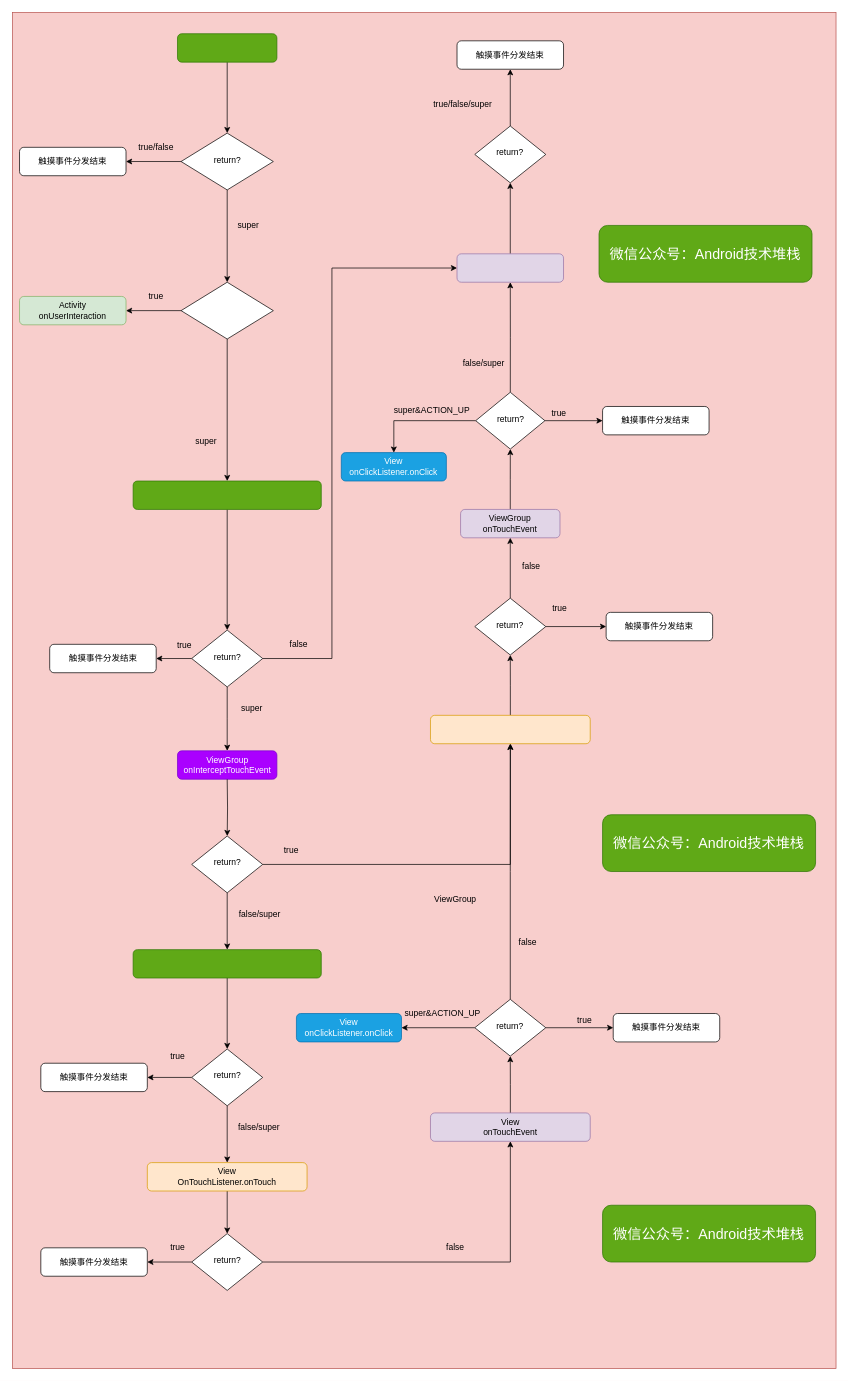
Some shapes in this 848 by 1381 pixel diagram are drawn without their labels. Here are the shapes that lost their labels. From the top down, the centre of each, then its label:
At point 227,47: "Activity dispatchTouchEvent".
At point 510,267: "Activity onTouchEvent".
At point 226,310: "ACTION_DOWN？".
At point 226,494: "ViewGroup dispatchTouchEvent".
At point 510,729: "ViewGroup OnTouchListener.onTouch".
At point 226,963: "View dispatchTouchEvent".
